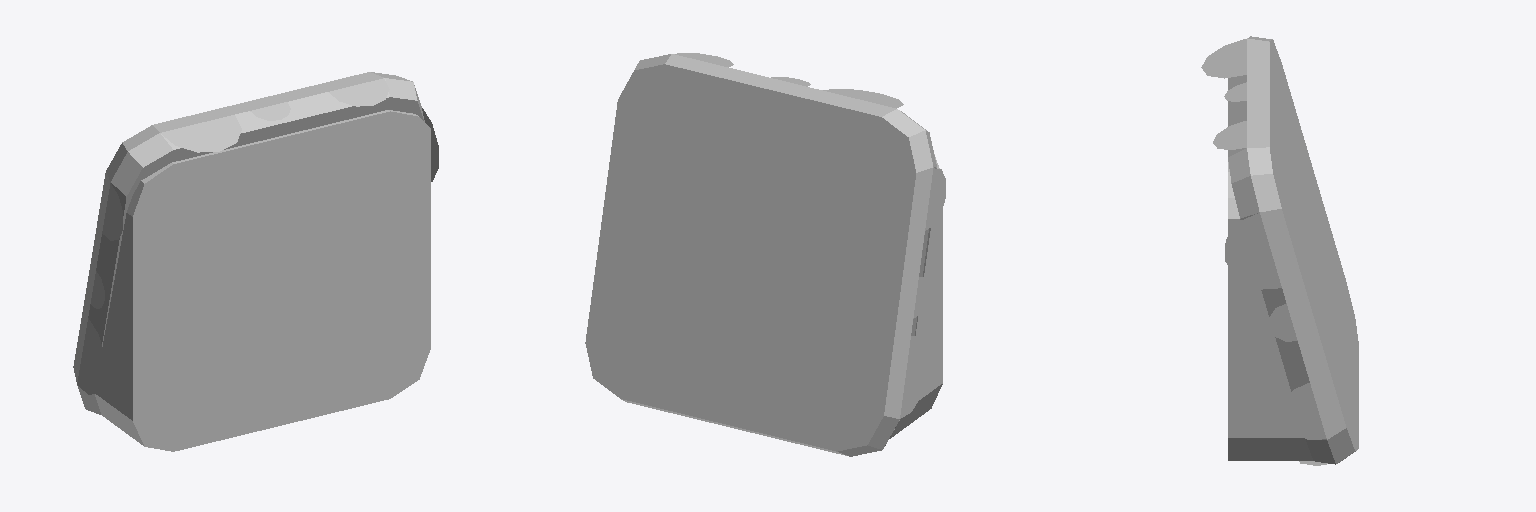
The model's file is block-snow-overhang-large-slope.obj.
3 views of the same model, side by side, from view 1: azimuth 30°, elevation 25°; view 2: azimuth 150°, elevation 25°; view 3: azimuth 270°, elevation 25° (orthographic).
Parts seen in each view (by area): view 1: block-snow-overhang-large-slope; view 2: block-snow-overhang-large-slope; view 3: block-snow-overhang-large-slope.
Boxes of the visible parts, box(x1,y1,x2,y2) form: block-snow-overhang-large-slope: box(73, 72, 438, 451); block-snow-overhang-large-slope: box(585, 53, 945, 456); block-snow-overhang-large-slope: box(1201, 36, 1358, 465).
Size of the model in its own units: 2.08 by 2.08 by 0.9144.